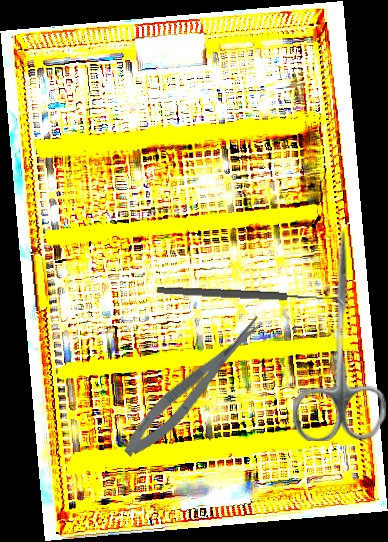Iris Scissors: (293, 231, 386, 441)
Micro Scissor: (115, 310, 274, 465)
Surgical Spoon: (156, 285, 344, 305)
